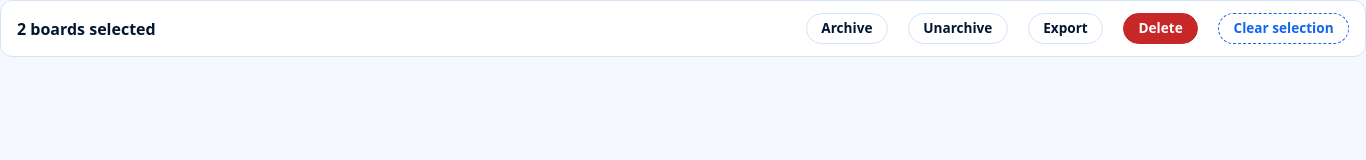
Test: BulkBoardBar › names each board it could not change and keeps only those chosen
What coordinates should you click on to do the following:
click the button "Archive"
I would click on:
 (847, 29)
Its box is [806,13,888,44].
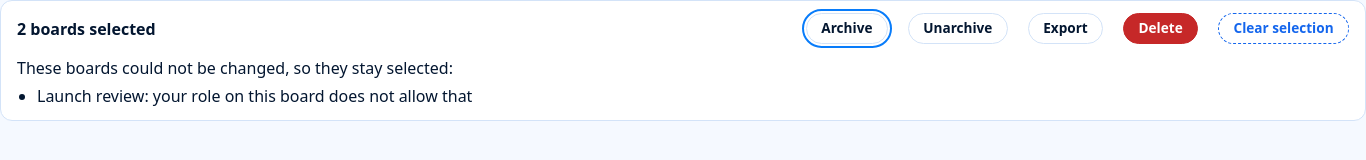
expect the message shows "These boards could not be changed, so they stay selected:": met, box [17,57,453,79]
expect the message shows "Launch review: your role on this board does not allow that": met, box [17,57,472,107]
